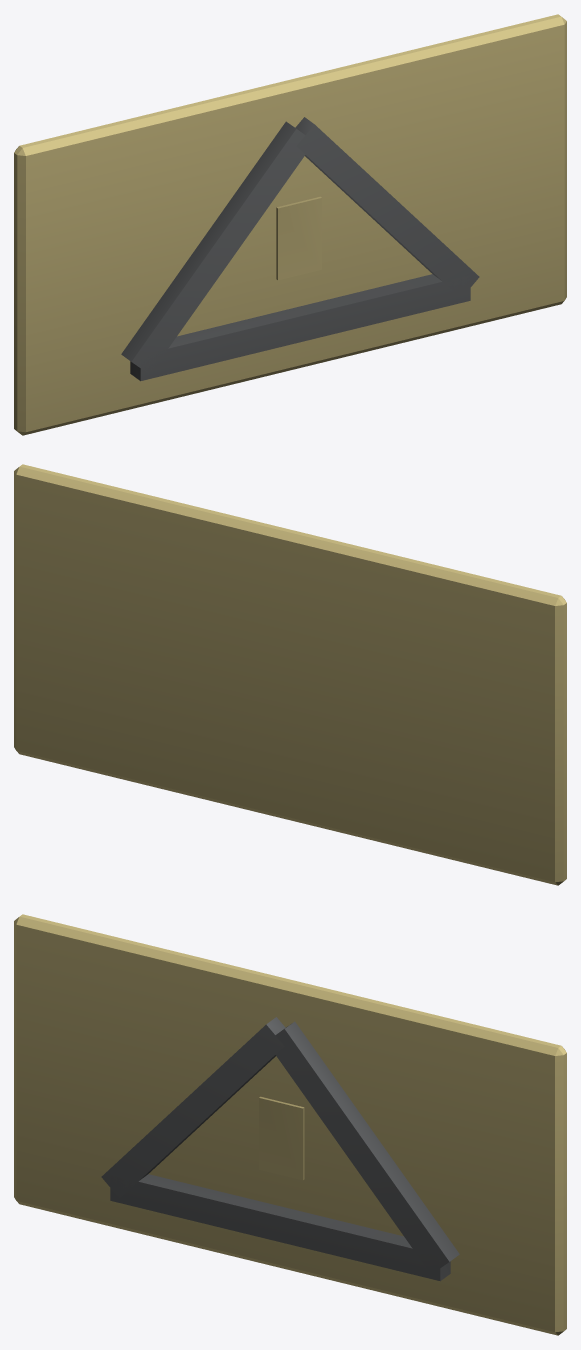
File: int_wallsign.glb
3 views of the same model, one above another, from view 1: azimuth 30°, elevation 25°; view 2: azimuth 150°, elevation 25°; view 3: azimuth 330°, elevation 25° (orthographic).
Visible parts, largest first — view 1: int_wallsign; view 2: int_wallsign; view 3: int_wallsign.
Boxes of the visible parts, bbox=[...] form: int_wallsign: bbox=[14, 14, 566, 435]; int_wallsign: bbox=[14, 464, 566, 885]; int_wallsign: bbox=[14, 914, 566, 1335].
Size of the model in its own units: 2 by 1 by 0.125.
